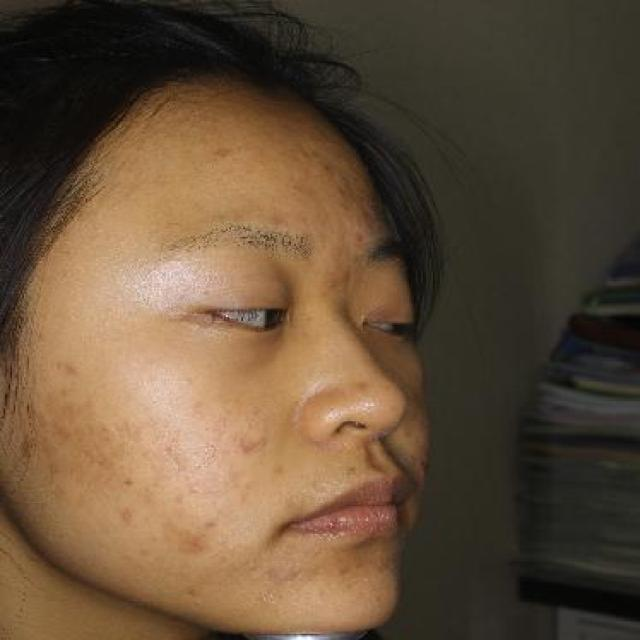nodules: (196, 514, 223, 534), (235, 439, 257, 459)
